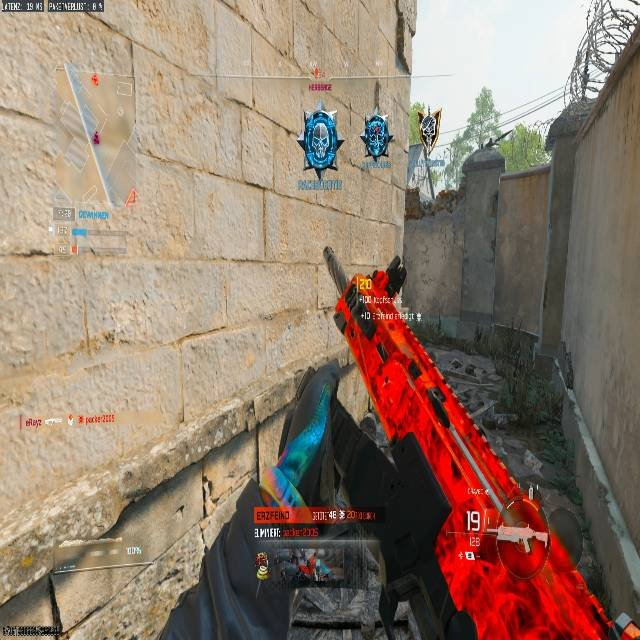player: (295, 108, 342, 172), (360, 115, 393, 162)
